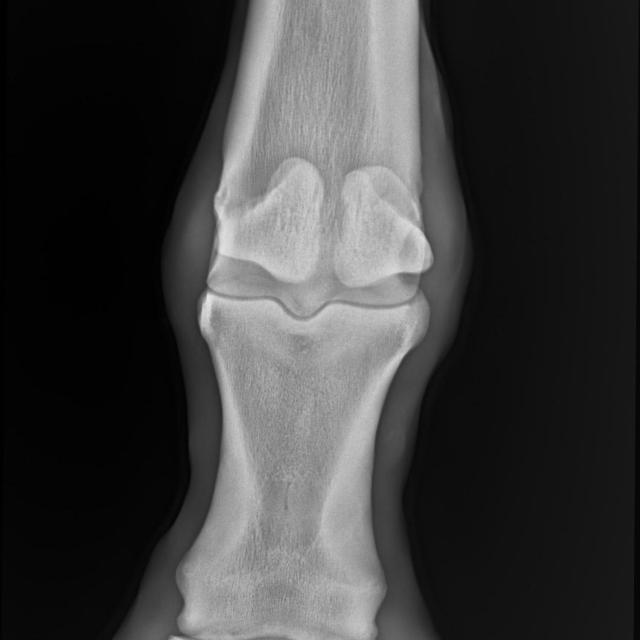joint-ht8A: (165, 130, 480, 441)
